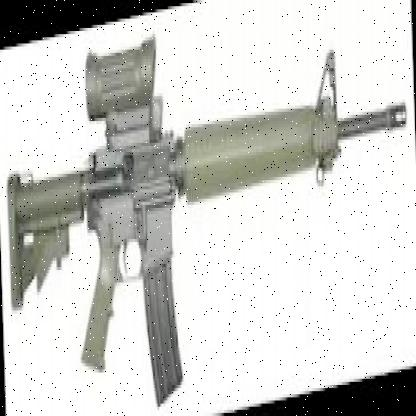rifle: (4, 0, 416, 416)
